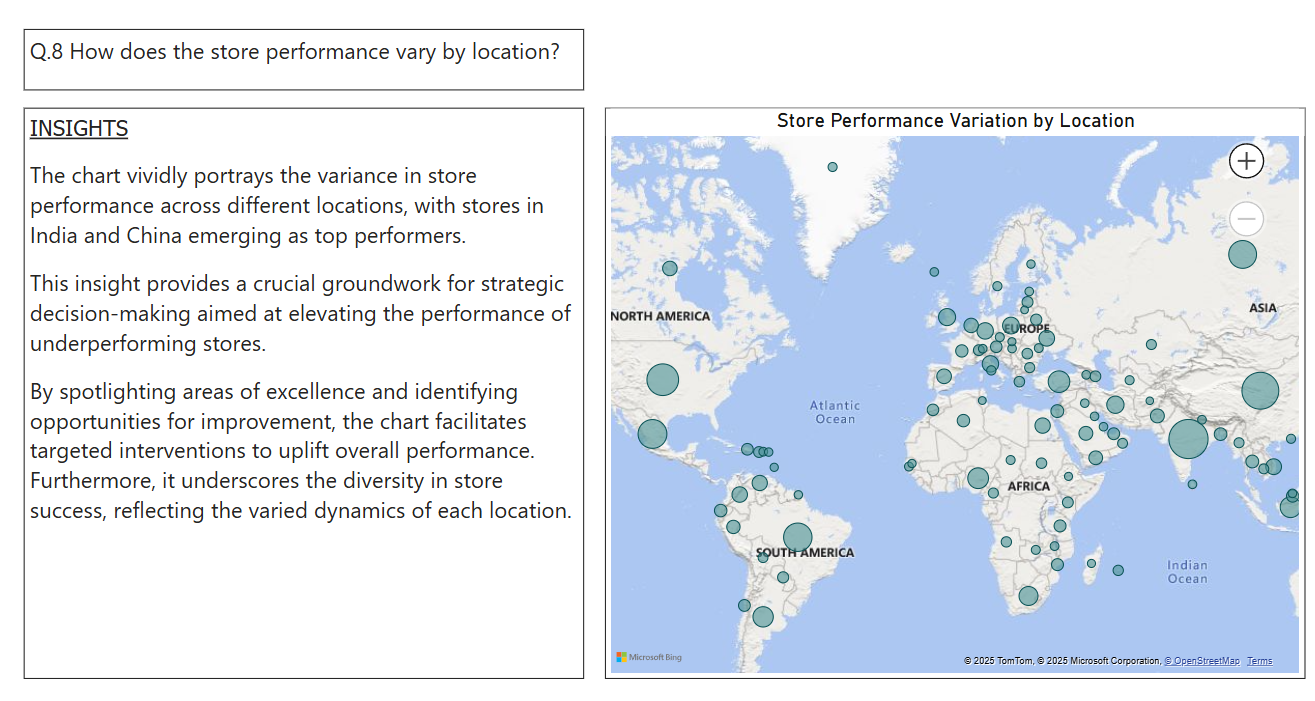

Layout of this report page (visuals, bound fields, positions):
{"tool":"powerbi","page":{"name":"Q8","canvas":[1280,720],"ordinal":13},"visuals":[{"type":"map","title":"Store Performance Variation by Location","fields":{"Category":["country.country"],"Size":["Sum(payment.amount)"]},"box":[593.6,129.1,675.6,551.3],"z":0},{"type":"textbox","box":[32.6,53.1,540.5,59.1],"z":1000},{"type":"textbox","box":[32.6,129.1,540.5,551.3],"z":3000}]}

Visuals, with their boxes in screenshot pixels (x1, y1, x2, y2):
"Store Performance Variation by Location" map: x1=603 y1=106 x2=1301 y2=676
textbox: x1=23 y1=27 x2=582 y2=89
textbox: x1=23 y1=106 x2=582 y2=676
